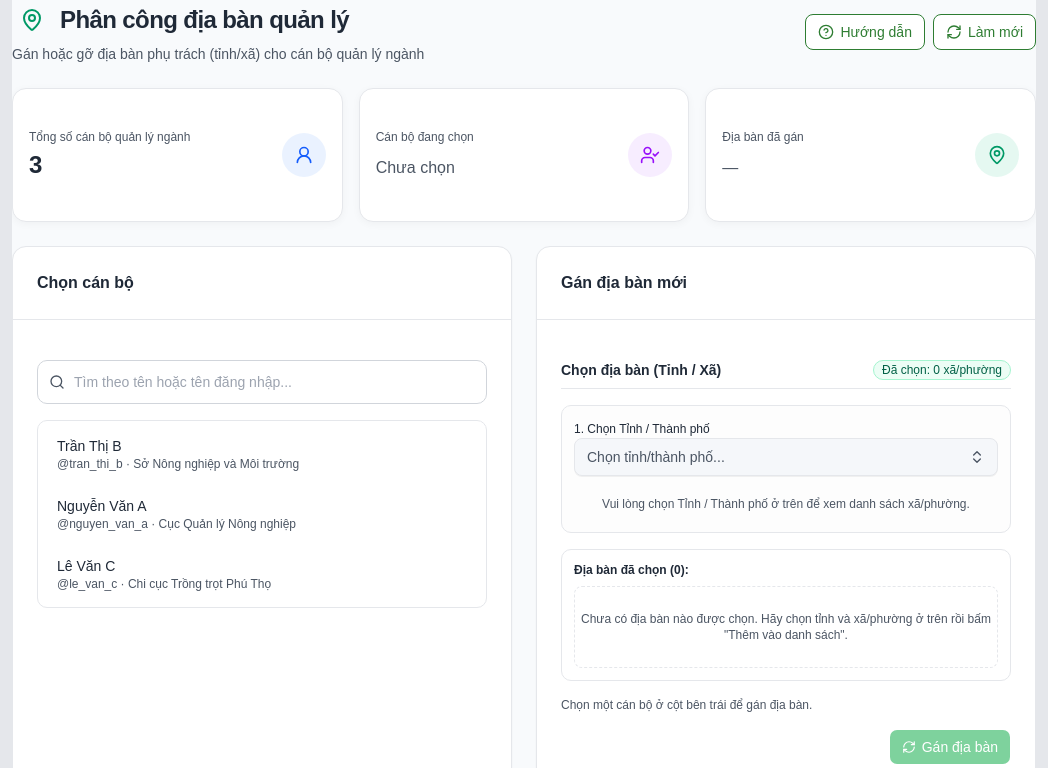
Test case: AreaAssignmentPage › lọc danh sách cán bộ theo từ khoá
This screenshot has width=1048, height=768.
Type "trần thị" into the field named "Tìm kiếm cán bộ" at (262, 382), box 37,360 -> 487,404
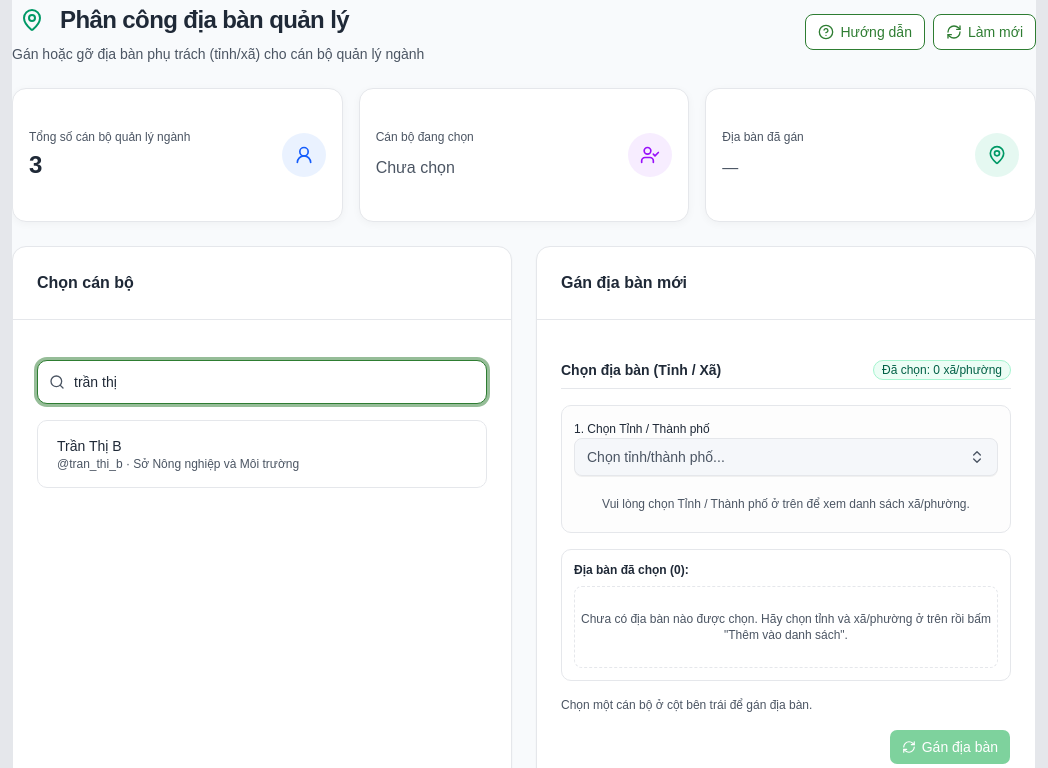
Check: the text "Trần Thị B" is shown, box 57,436 -> 122,456
Check: the button "Nguyễn Văn A" is gone
